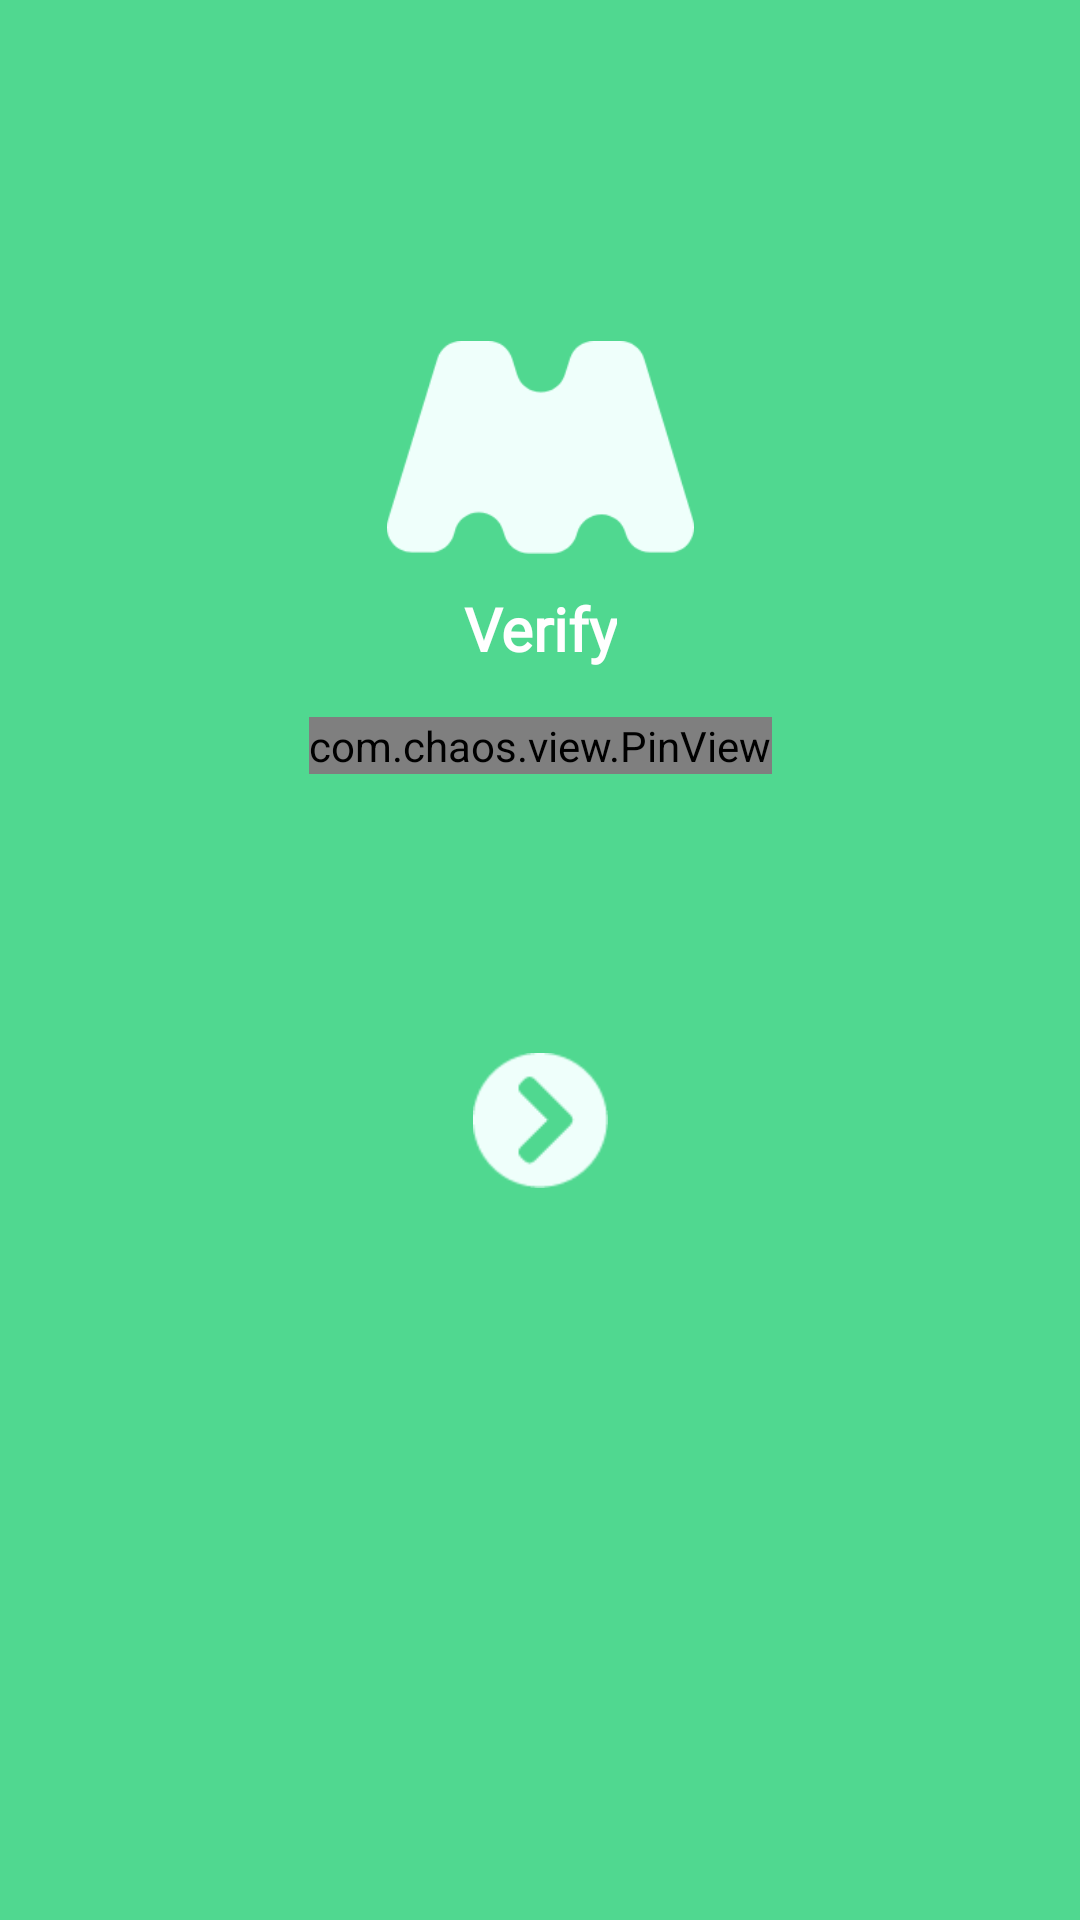

Screen size 1080 × 1920. Icon name, then its center in pixels as [x,y]:
next: [540,1120]
